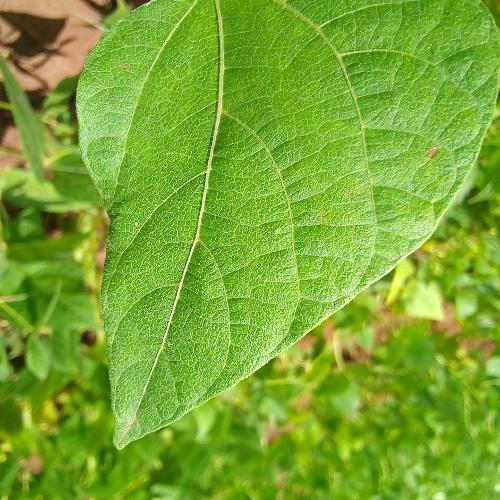embun tepung: (116, 332, 150, 430)
sehat: (128, 60, 368, 278)
